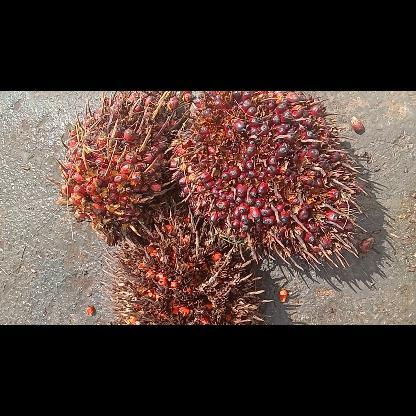TBS masak: (170, 91, 366, 271), (46, 91, 190, 245)
Terlalu masak: (100, 208, 272, 324)
